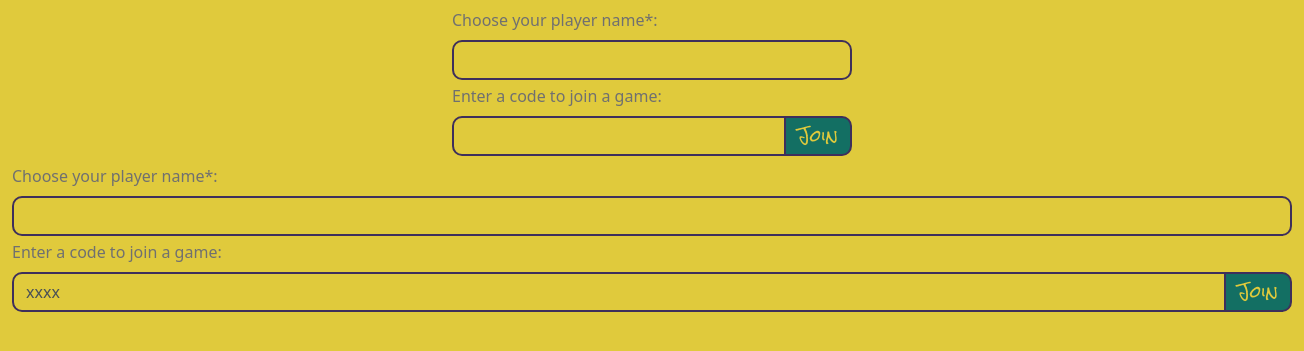
JoinGame.vue › it shows an error message that username is missing
This screenshot has width=1304, height=351.
Click the button with id "joinGame" at (1258, 292), box [1224,272,1292,312]
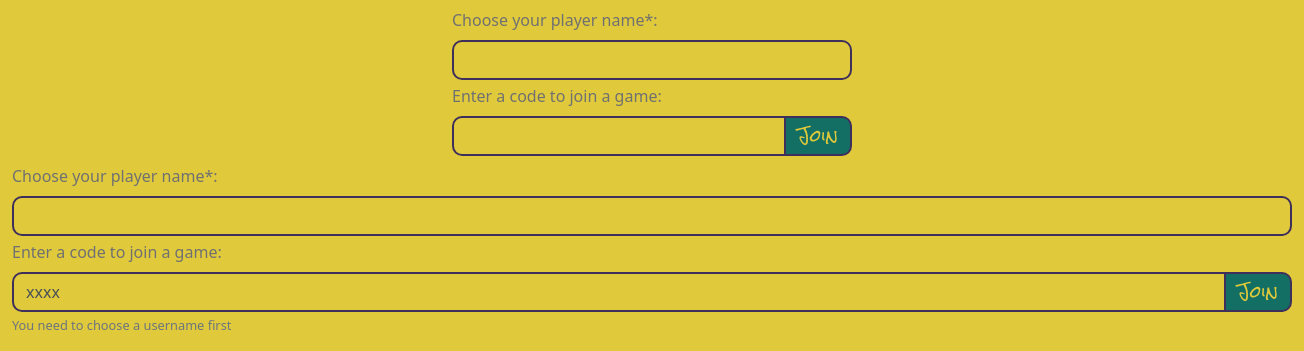
Now the text with class "error" reads "You need to choose a username first", box [12,316,231,334]
